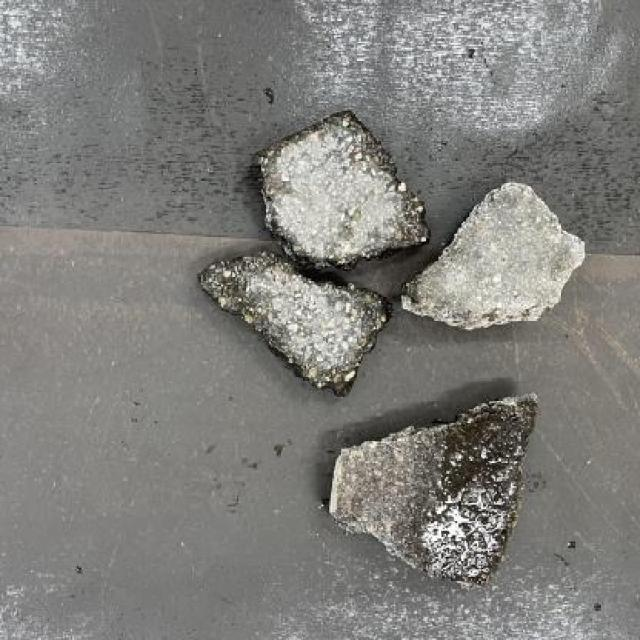Road Debris: (267, 112, 413, 262), (214, 264, 366, 386), (418, 398, 520, 578), (423, 194, 566, 318)
